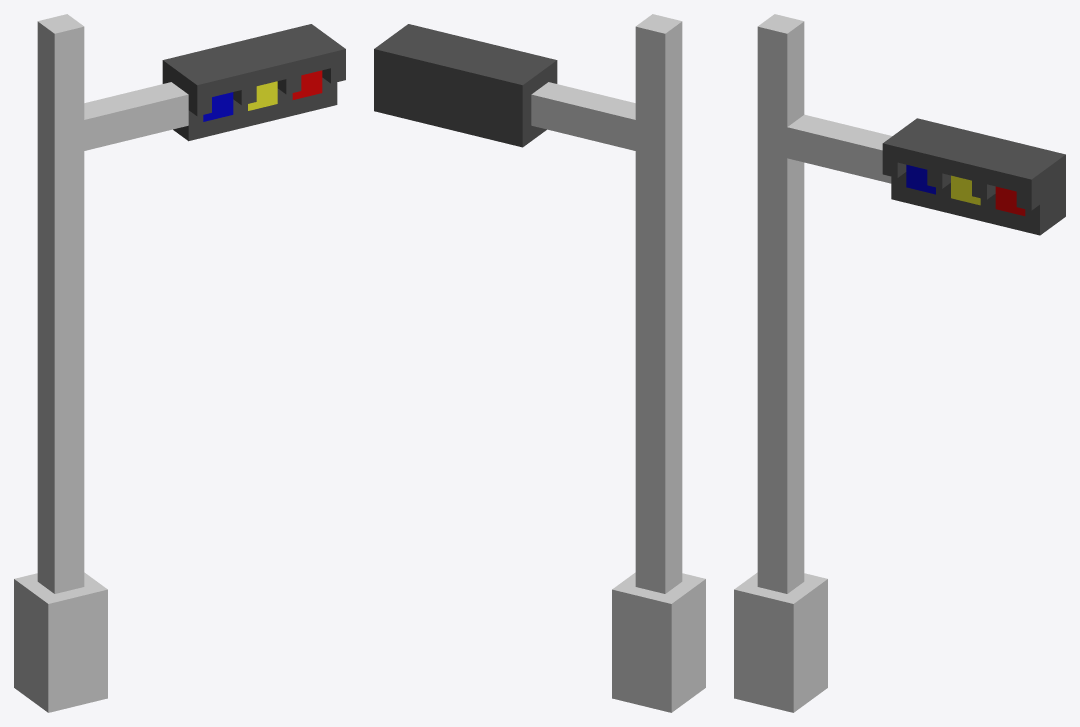
Rendered from Traffic light.fbx.
3 renders of one model, left to right at view 1: azimuth 30°, elevation 25°; view 2: azimuth 150°, elevation 25°; view 3: azimuth 330°, elevation 25°, orthographic.
Parts seen in each view (by area): view 1: no part large enough to name; view 2: no part large enough to name; view 3: 立方体.100.
Boxes of the visible parts, box(x1,y1,x2,y2) form: 立方体.100: box(778, 594, 802, 619).
Size of the model in its own units: 2000 by 4300 by 400.
